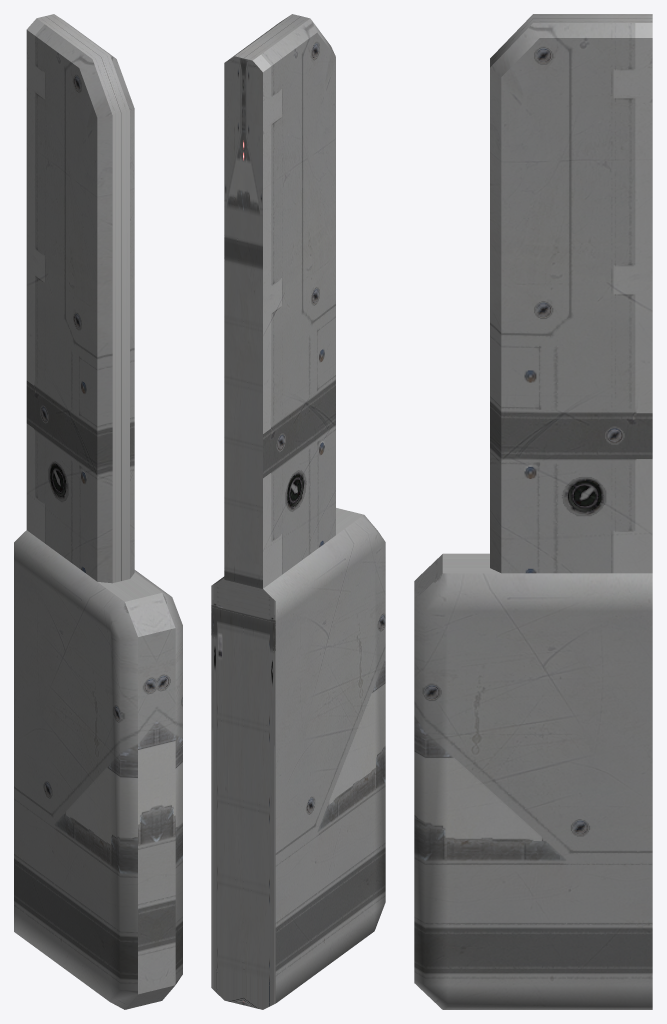
Rendered from SM_SPillarS04d.fbx.
3 renders of one model, left to right at view 1: azimuth 30°, elevation 25°; view 2: azimuth 150°, elevation 25°; view 3: azimuth 270°, elevation 25°, orthographic. The views are drawn at different scales.
Visible parts, largest first — view 1: SM_SPillarS04d_LOD0; view 2: SM_SPillarS04d_LOD0; view 3: SM_SPillarS04d_LOD0.
Part boxes in pixels (x1=…): SM_SPillarS04d_LOD0: x1=14, y1=14, x2=182, y2=1009; SM_SPillarS04d_LOD0: x1=211, y1=14, x2=385, y2=1009; SM_SPillarS04d_LOD0: x1=414, y1=14, x2=652, y2=1009.
Size of the model in its own units: 25 by 77.43 by 351.
Materials: 1 (1 with a texture image).
